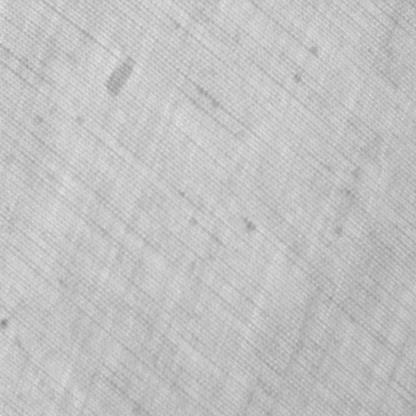oil spot: (103, 54, 134, 100)
